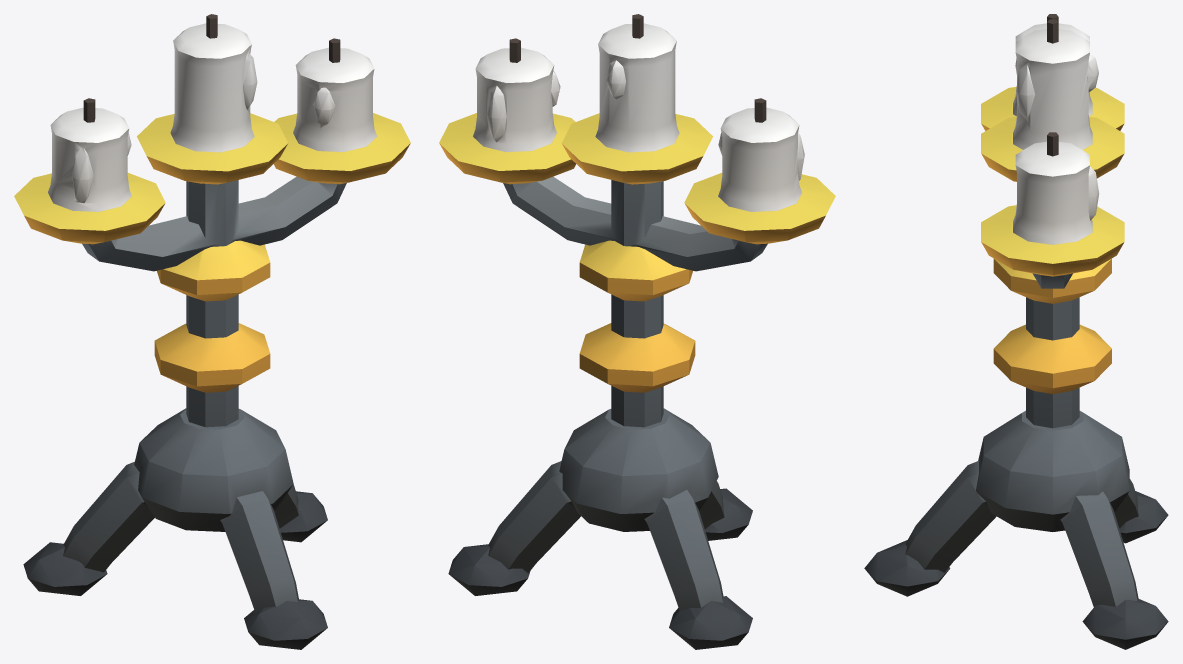
Rendered from candelabra.glb.
The picture shows the model from 3 angles, left to right: view 1: azimuth 30°, elevation 25°; view 2: azimuth 150°, elevation 25°; view 3: azimuth 270°, elevation 25°; orthographic projection.
Visible parts, largest first — view 1: Item; view 2: Item; view 3: Item.
Boxes of the visible parts, x1,y1,x2,y2 form: Item: (14,14,410,649); Item: (439,14,835,649); Item: (864,14,1168,649).
Bounding box in the file's own units: 1.6 × 2.33 × 1.13.
Materials: 3 (3 with a texture image).
